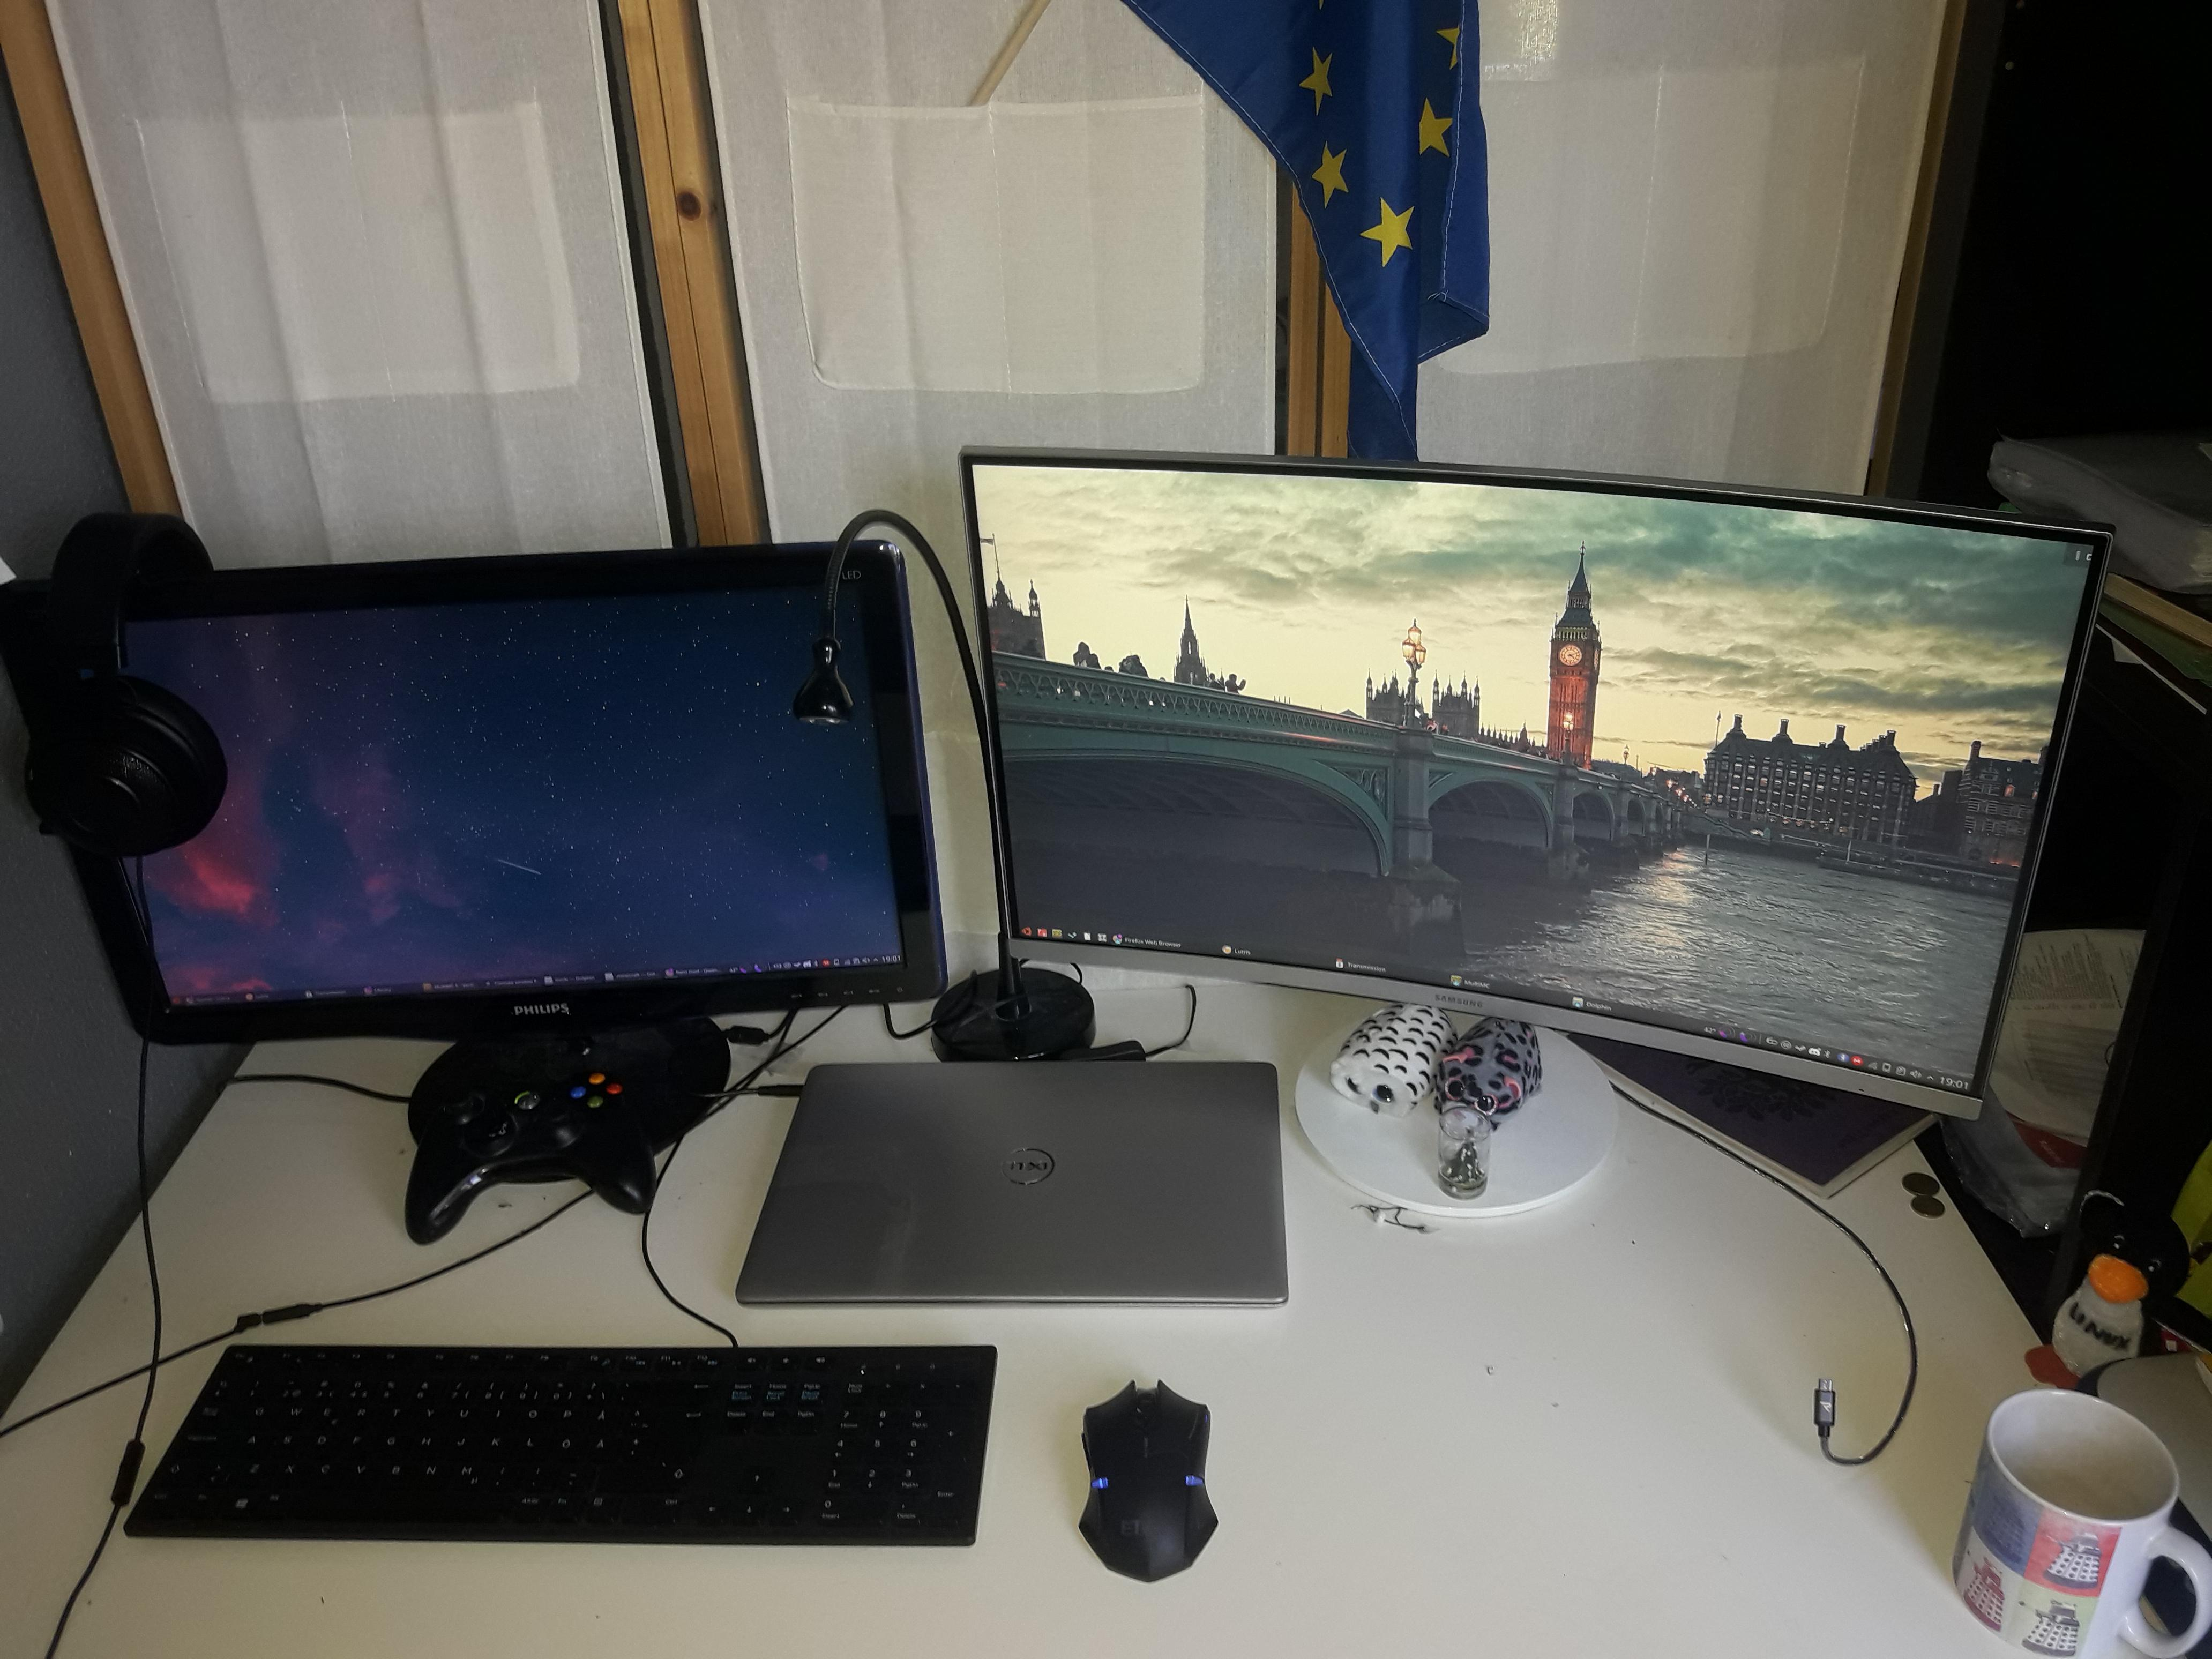Cellphone Charger (Generic): (1719, 1326, 1890, 1490)
Decoration (Generic): (1426, 1000, 1550, 1124), (1329, 995, 1453, 1119), (1430, 1108, 1493, 1206)
Desk (Generic): (0, 974, 2212, 1659)
Gaming Controller: (390, 1061, 672, 1246)
Headphones: (30, 495, 219, 882)
Keyboard (Gaming): (115, 1331, 995, 1567)
Lamp (Desk): (791, 502, 1099, 1056)
Laptop (Windows): (730, 1051, 1289, 1324)
Monitor (Landscape): (960, 444, 2114, 1124), (24, 537, 951, 1054)
Mouse (Gaming): (1054, 1370, 1240, 1593)
Mug: (1952, 1371, 2198, 1659)
